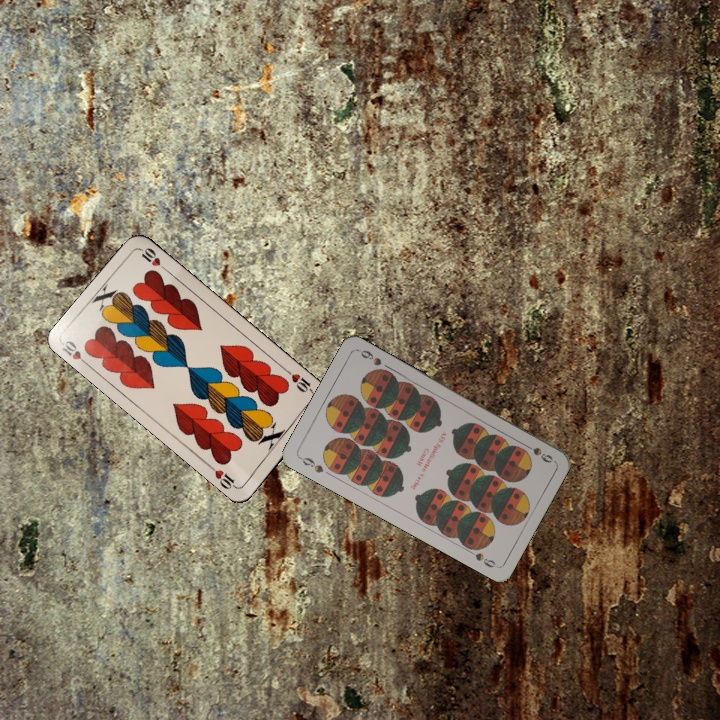H10: (57, 336, 93, 370), (282, 366, 316, 396)
S9: (519, 439, 555, 465), (295, 453, 326, 476)
